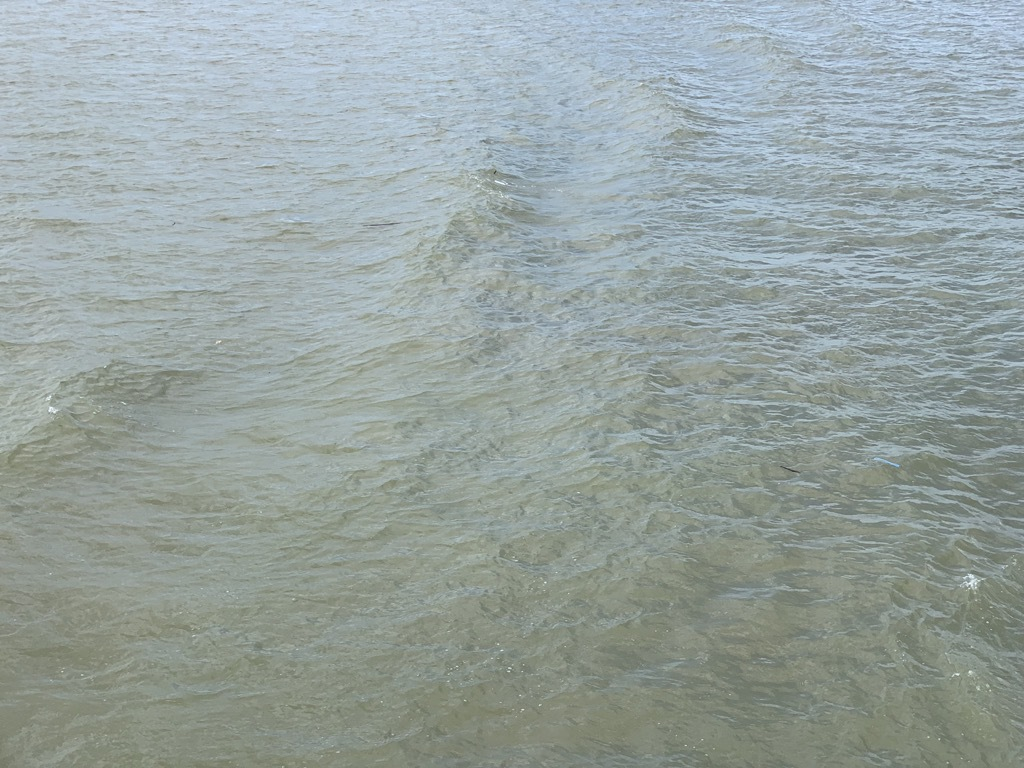organic: (357, 216, 430, 231), (775, 459, 805, 480), (492, 167, 499, 177)
plastic: (863, 440, 910, 484), (203, 327, 232, 356)
